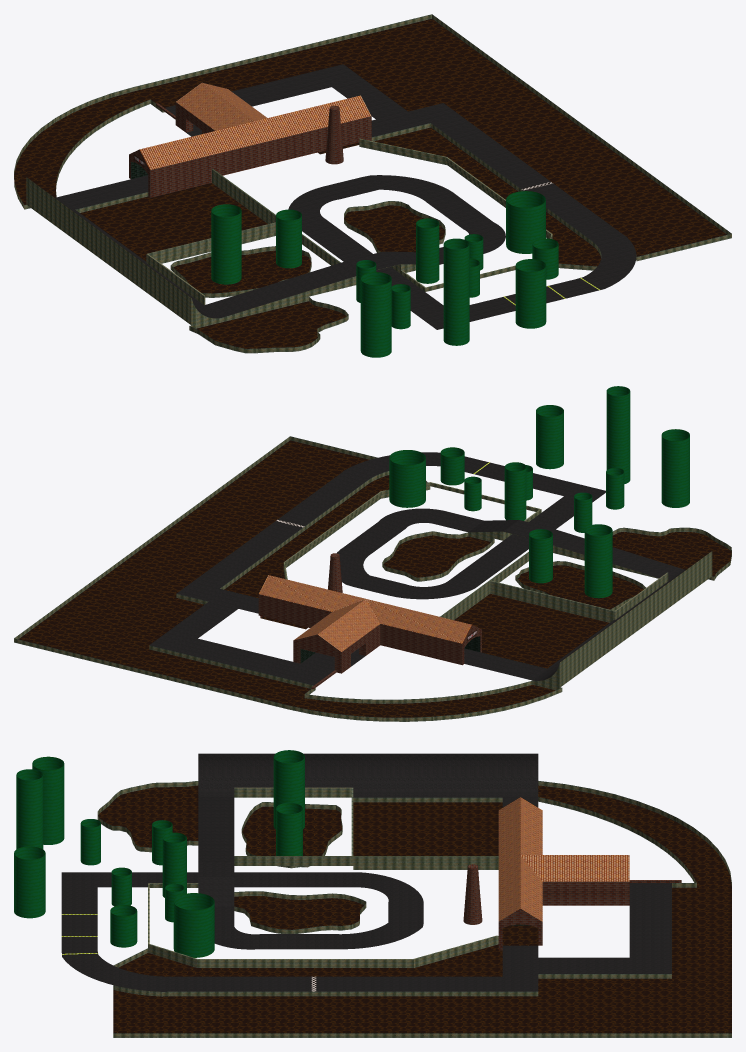
3 views of the same model, one above another, from view 1: azimuth 30°, elevation 25°; view 2: azimuth 150°, elevation 25°; view 3: azimuth 270°, elevation 25° (orthographic). The views are drawn at different scales.
Visible parts, largest first — view 1: RF2k17_Main-Boue, RF2k17_Main-Route1, RF2k17_Main-Mur, RF2k17_Main-colonne, RF2k17_Main-Toit, RF2k17_Main-Mur2; view 2: RF2k17_Main-Boue, RF2k17_Main-Route1, RF2k17_Main-Mur, RF2k17_Main-colonne, RF2k17_Main-Toit, RF2k17_Main-Mur2; view 3: RF2k17_Main-Boue, RF2k17_Main-Route1, RF2k17_Main-Mur, RF2k17_Main-colonne, RF2k17_Main-Toit, RF2k17_Main-Mur2.
Boxes of the visible parts, x1,y1,x2,y2 form: RF2k17_Main-Boue: (14, 18, 726, 348); RF2k17_Main-Route1: (27, 64, 636, 329); RF2k17_Main-Mur: (14, 14, 731, 353); RF2k17_Main-colonne: (211, 191, 558, 357); RF2k17_Main-Toit: (139, 82, 371, 169); RF2k17_Main-Mur2: (129, 102, 371, 197); RF2k17_Main-Boue: (18, 440, 731, 717); RF2k17_Main-Route1: (149, 452, 711, 685); RF2k17_Main-Mur: (14, 436, 731, 721); RF2k17_Main-colonne: (389, 386, 689, 598); RF2k17_Main-Toit: (259, 575, 471, 651); RF2k17_Main-Mur2: (258, 553, 481, 689); RF2k17_Main-Boue: (98, 785, 731, 1033); RF2k17_Main-Route1: (61, 753, 671, 991); RF2k17_Main-Mur: (97, 781, 731, 1037); RF2k17_Main-colonne: (14, 750, 304, 957); RF2k17_Main-Toit: (498, 797, 629, 921); RF2k17_Main-Mur2: (463, 864, 681, 950).
Size of what is drawn, in the model's own units: 63972 by 12295 by 76887.
Materials: 10 (10 with a texture image).
